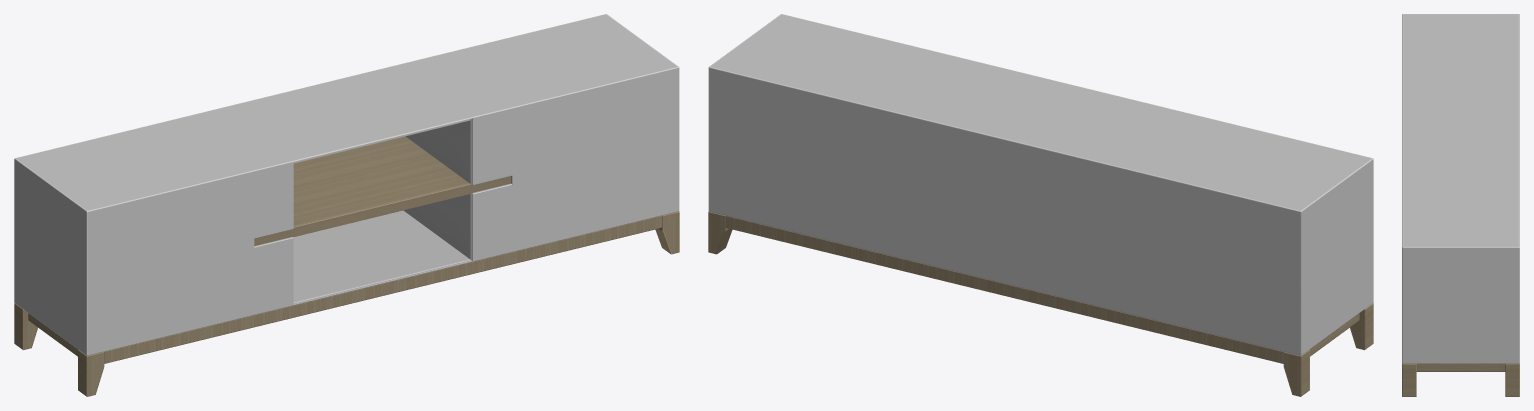
Rendered from raw_model.obj.
The picture shows the model from 3 angles, left to right: view 1: azimuth 30°, elevation 25°; view 2: azimuth 150°, elevation 25°; view 3: azimuth 270°, elevation 25°; orthographic projection. The views are drawn at different scales.
Parts seen in each view (by area): view 1: solid_001, solid_002; view 2: solid_001, solid_002; view 3: solid_001, solid_002.
Part boxes in pixels (x1=…): solid_001: x1=14, y1=14, x2=679, y2=355; solid_002: x1=14, y1=136, x2=679, y2=396; solid_001: x1=708, y1=14, x2=1373, y2=355; solid_002: x1=708, y1=211, x2=1373, y2=396; solid_001: x1=1402, y1=14, x2=1519, y2=363; solid_002: x1=1402, y1=363, x2=1519, y2=396.
Size of the model in its own units: 1.5 by 0.4489 by 0.32.
Materials: 1 (1 with a texture image).
